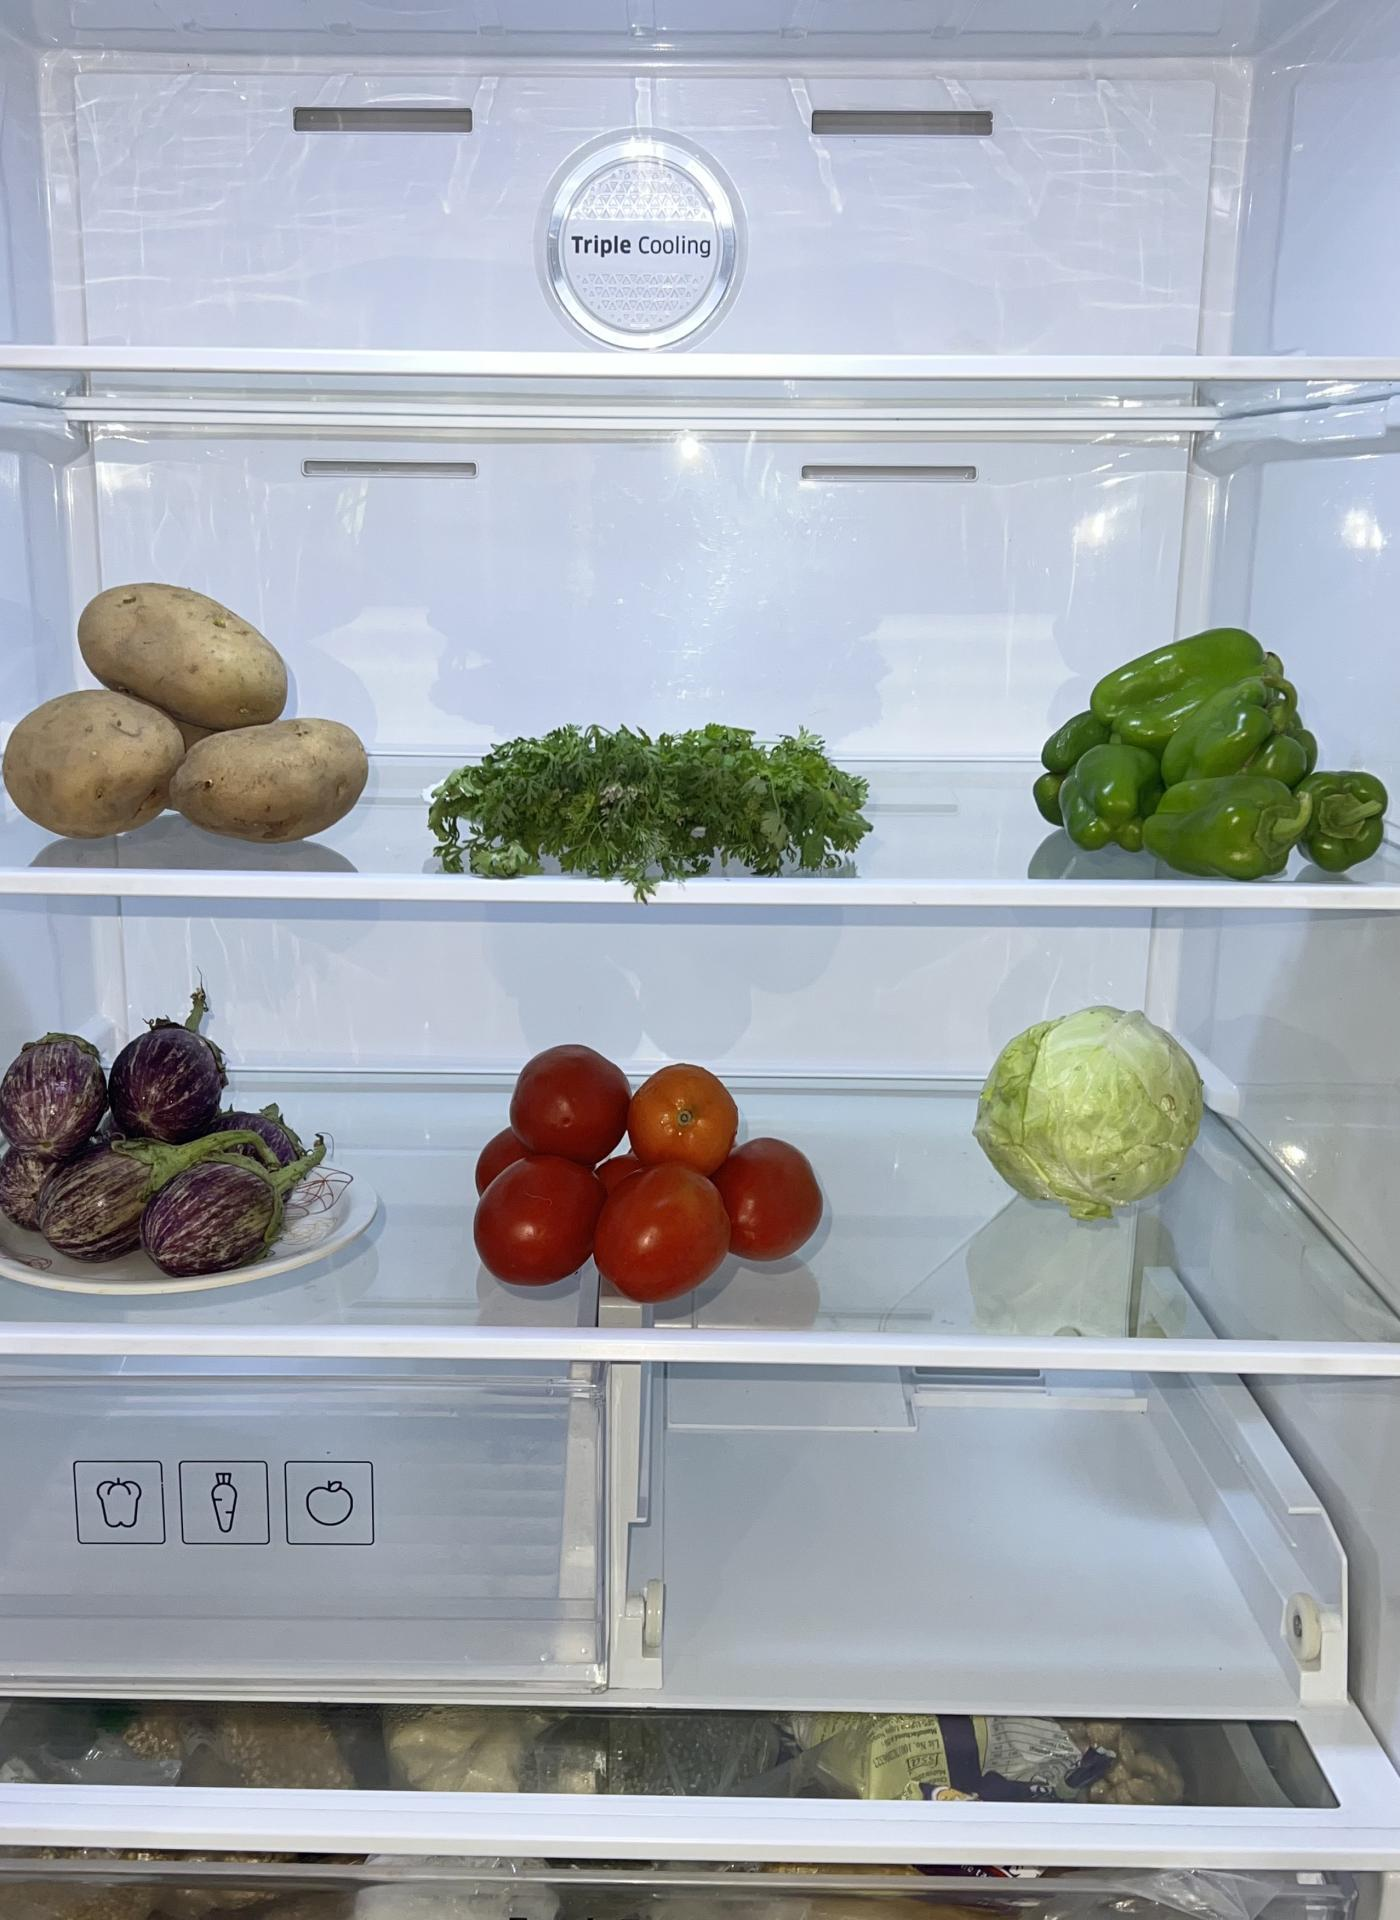cabbage: (977, 1006, 1208, 1216)
capsicum: (1026, 622, 1384, 874)
coriander: (440, 711, 875, 891)
potato: (12, 572, 367, 851)
tomato: (473, 1033, 827, 1303)
